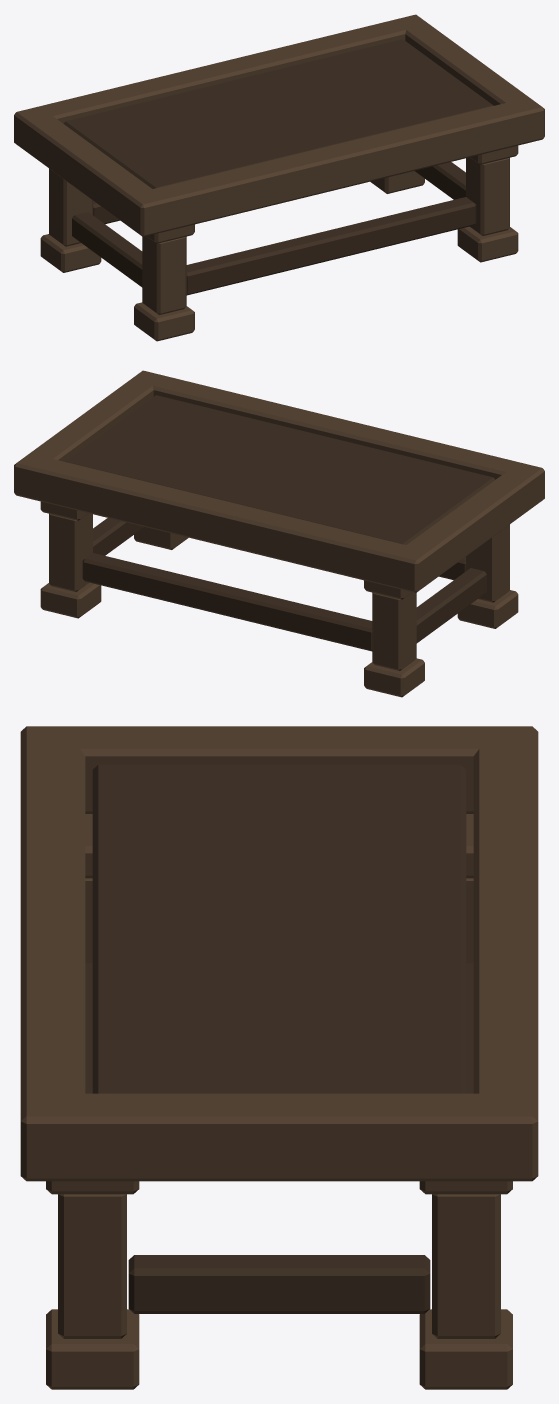
The model's file is coffee-table-D4E3PBZ7.glb.
The picture shows the model from 3 angles, top to bottom: view 1: azimuth 30°, elevation 25°; view 2: azimuth 150°, elevation 25°; view 3: azimuth 270°, elevation 25°; orthographic projection. The views are drawn at different scales.
Parts seen in each view (by area): view 1: CoffeeTable; view 2: CoffeeTable; view 3: CoffeeTable.
Boxes of the visible parts, bbox=[...] form: CoffeeTable: bbox=[14, 14, 544, 341]; CoffeeTable: bbox=[14, 370, 544, 697]; CoffeeTable: bbox=[20, 726, 538, 1389].
Size of the model in its own units: 1.3 by 0.45 by 0.72.
